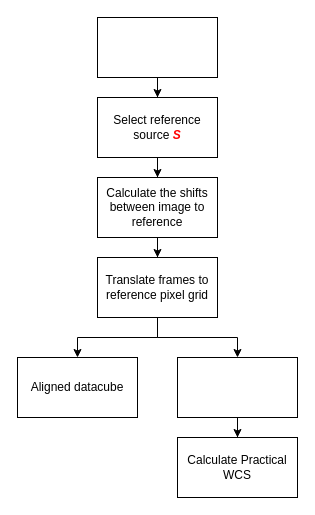
The diagram is 315 pixels wide and 515 high, and some of its shapes have lost their labels. The shapes that lost their labels are listed below. From the top down, each one's box as (x1, y1, x2, y2) in pixels, then its label:
(96, 16, 218, 78): Calibrated Infrared Frames
(176, 356, 298, 418): Preliminary Stack
